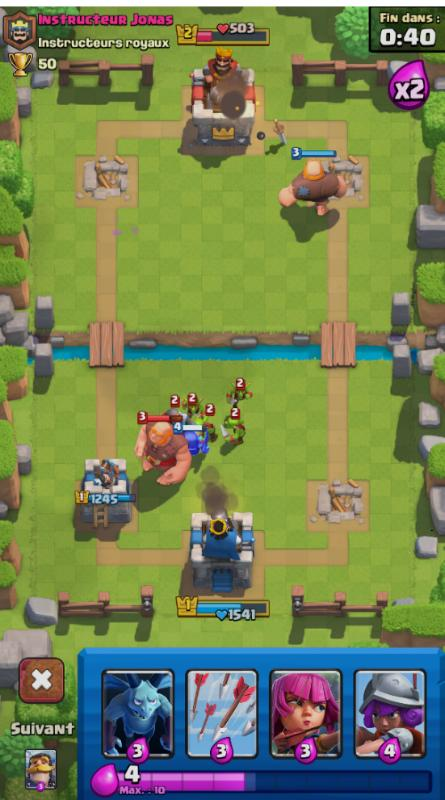chevalier: (159, 397, 187, 435)
geant: (275, 142, 350, 222), (131, 412, 191, 493)
gobelin: (222, 375, 257, 414), (216, 413, 254, 445), (175, 391, 200, 422), (195, 412, 218, 434)
mini_PEKKA: (173, 418, 210, 461)
